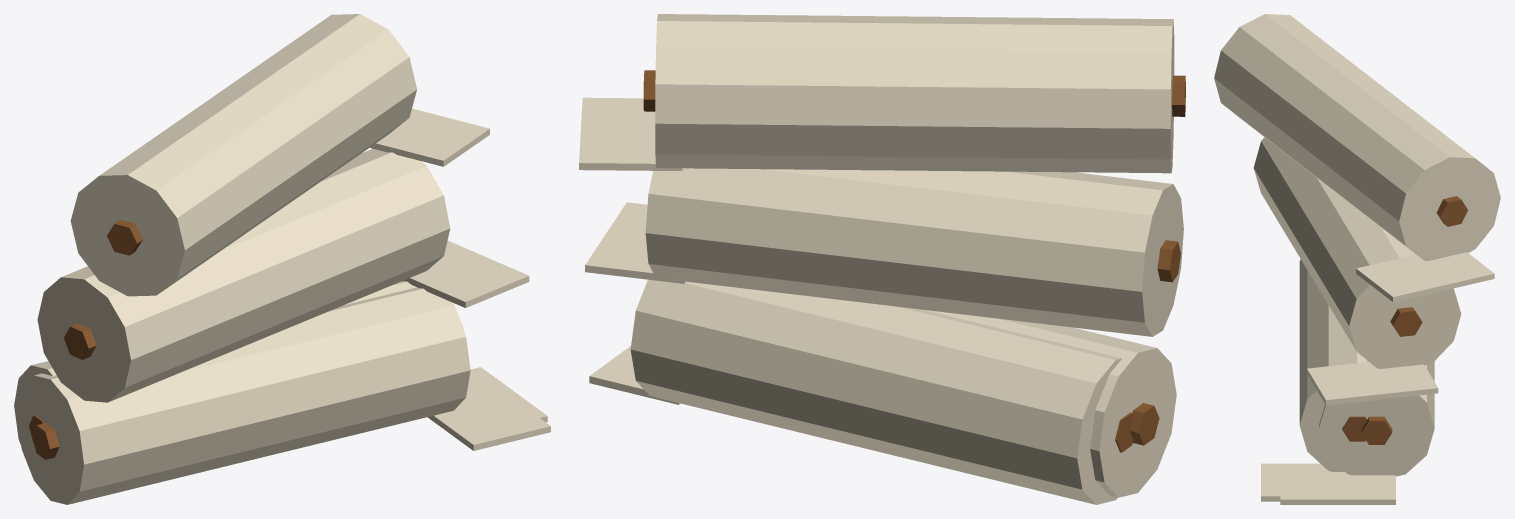
The model's file is Cloth_Yarn.fbx.
3 views of the same model, side by side, from view 1: azimuth 30°, elevation 25°; view 2: azimuth 150°, elevation 25°; view 3: azimuth 270°, elevation 25° (orthographic). The views are drawn at different scales.
Visible parts, largest first — view 1: Cloth_Yarn__Stack, Cloth_Yarn; view 2: Cloth_Yarn__Stack, Cloth_Yarn; view 3: Cloth_Yarn__Stack, Cloth_Yarn.
Boxes of the visible parts, bbox=[...] form: Cloth_Yarn__Stack: bbox=[17, 14, 550, 504]; Cloth_Yarn: bbox=[14, 281, 547, 444]; Cloth_Yarn__Stack: bbox=[579, 14, 1185, 497]; Cloth_Yarn: bbox=[589, 279, 1133, 504]; Cloth_Yarn__Stack: bbox=[1214, 14, 1500, 501]; Cloth_Yarn: bbox=[1280, 360, 1434, 504].
Bounding box in the file's own units: 0.2433 × 0.1776 × 0.1485.
